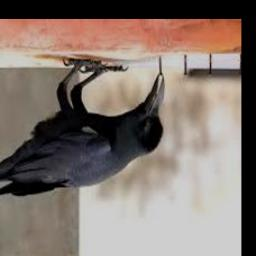Crow: (0, 58, 164, 204)
